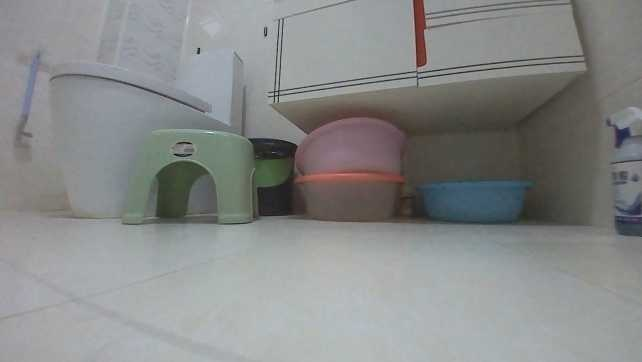plastic_stool: (118, 127, 258, 224)
toilet: (45, 37, 246, 218)
washstand: (260, 0, 587, 137)
